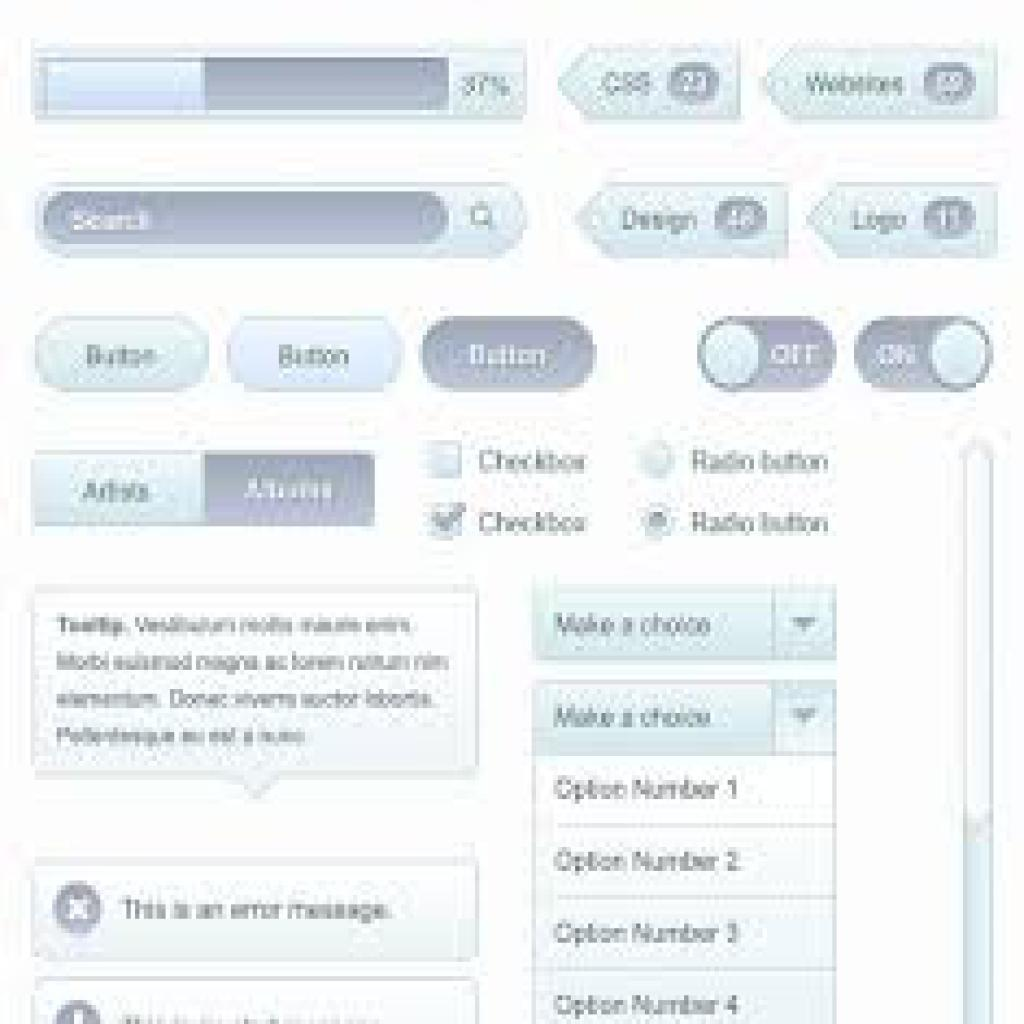button: (31, 858, 481, 966), (34, 314, 209, 390), (227, 315, 402, 390), (422, 317, 596, 391), (205, 454, 375, 526), (35, 452, 201, 522)
checkbox: (429, 498, 466, 540), (430, 441, 461, 481)
dropdown: (533, 679, 839, 757), (533, 586, 837, 661)
input: (37, 181, 526, 254)
label: (688, 502, 836, 543), (477, 501, 594, 542), (690, 447, 834, 480), (481, 444, 590, 480)
radio: (640, 502, 677, 542), (644, 441, 677, 477)
slider: (33, 47, 528, 122)
switch: (699, 316, 840, 394), (856, 319, 993, 394)
